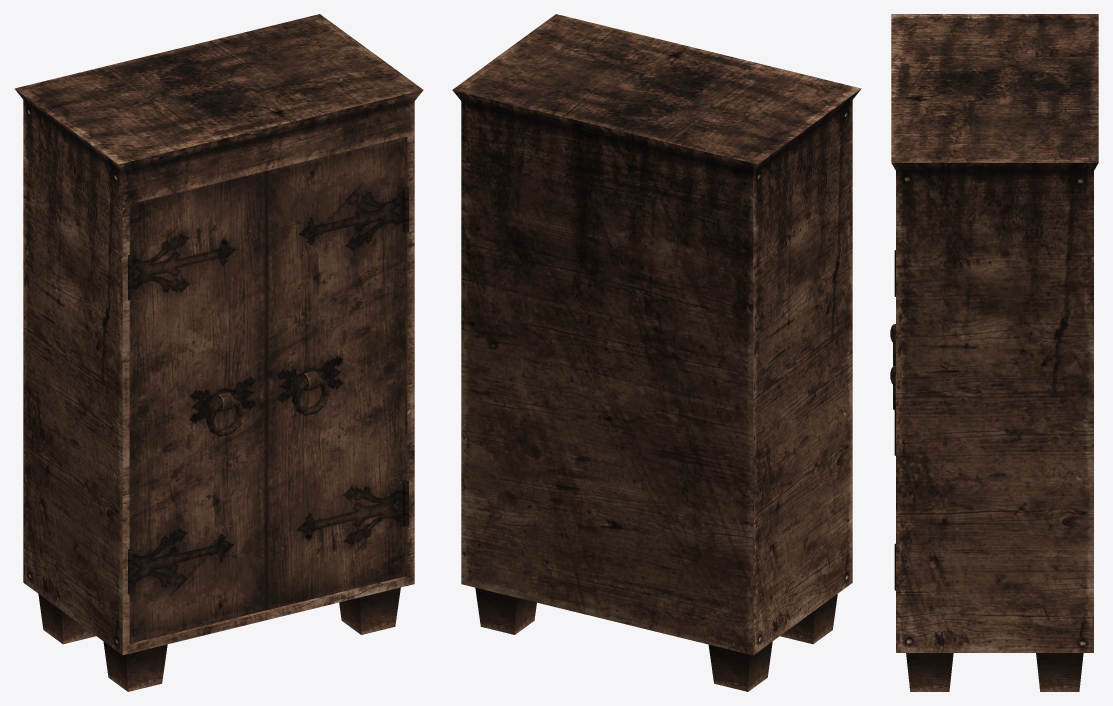
The model's file is cabinet_simple_fine.dae.
3 renders of one model, left to right at view 1: azimuth 30°, elevation 25°; view 2: azimuth 150°, elevation 25°; view 3: azimuth 270°, elevation 25°, orthographic.
Visible parts, largest first — view 1: polySurface23, polySurface22, polySurface21; view 2: polySurface23; view 3: polySurface23.
Part boxes in pixels (x1=…): polySurface23: x1=14, y1=14, x2=423, y2=691; polySurface22: x1=266, y1=137, x2=405, y2=609; polySurface21: x1=129, y1=171, x2=266, y2=643; polySurface23: x1=452, y1=14, x2=861, y2=691; polySurface23: x1=891, y1=14, x2=1098, y2=691.
Size of the model in its own units: 1.78 by 3 by 1.05.
